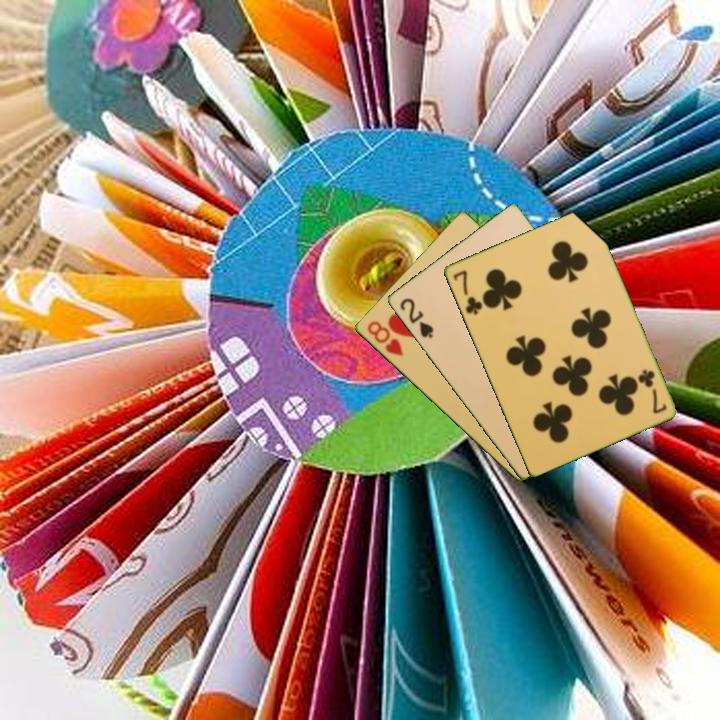2s: (396, 294, 436, 341)
7c: (449, 266, 485, 318), (634, 365, 669, 416)
8h: (363, 317, 406, 359)
